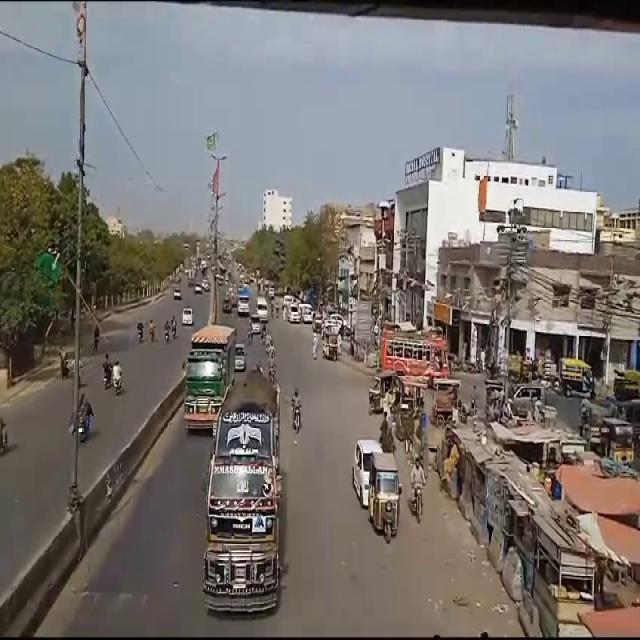car: (287, 302, 313, 323), (172, 288, 181, 302)
truck: (203, 368, 287, 618)
